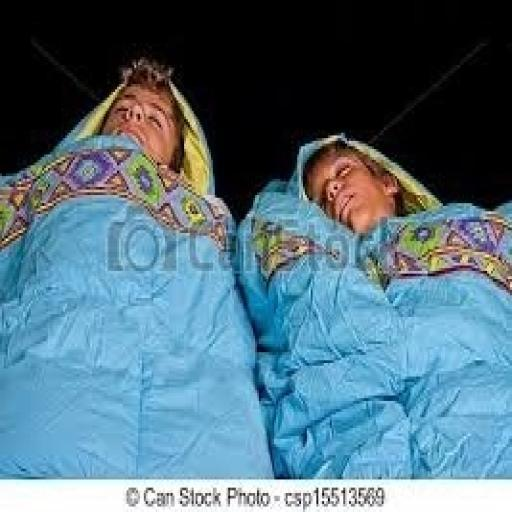sleeping: (0, 52, 274, 480), (238, 130, 510, 477)
